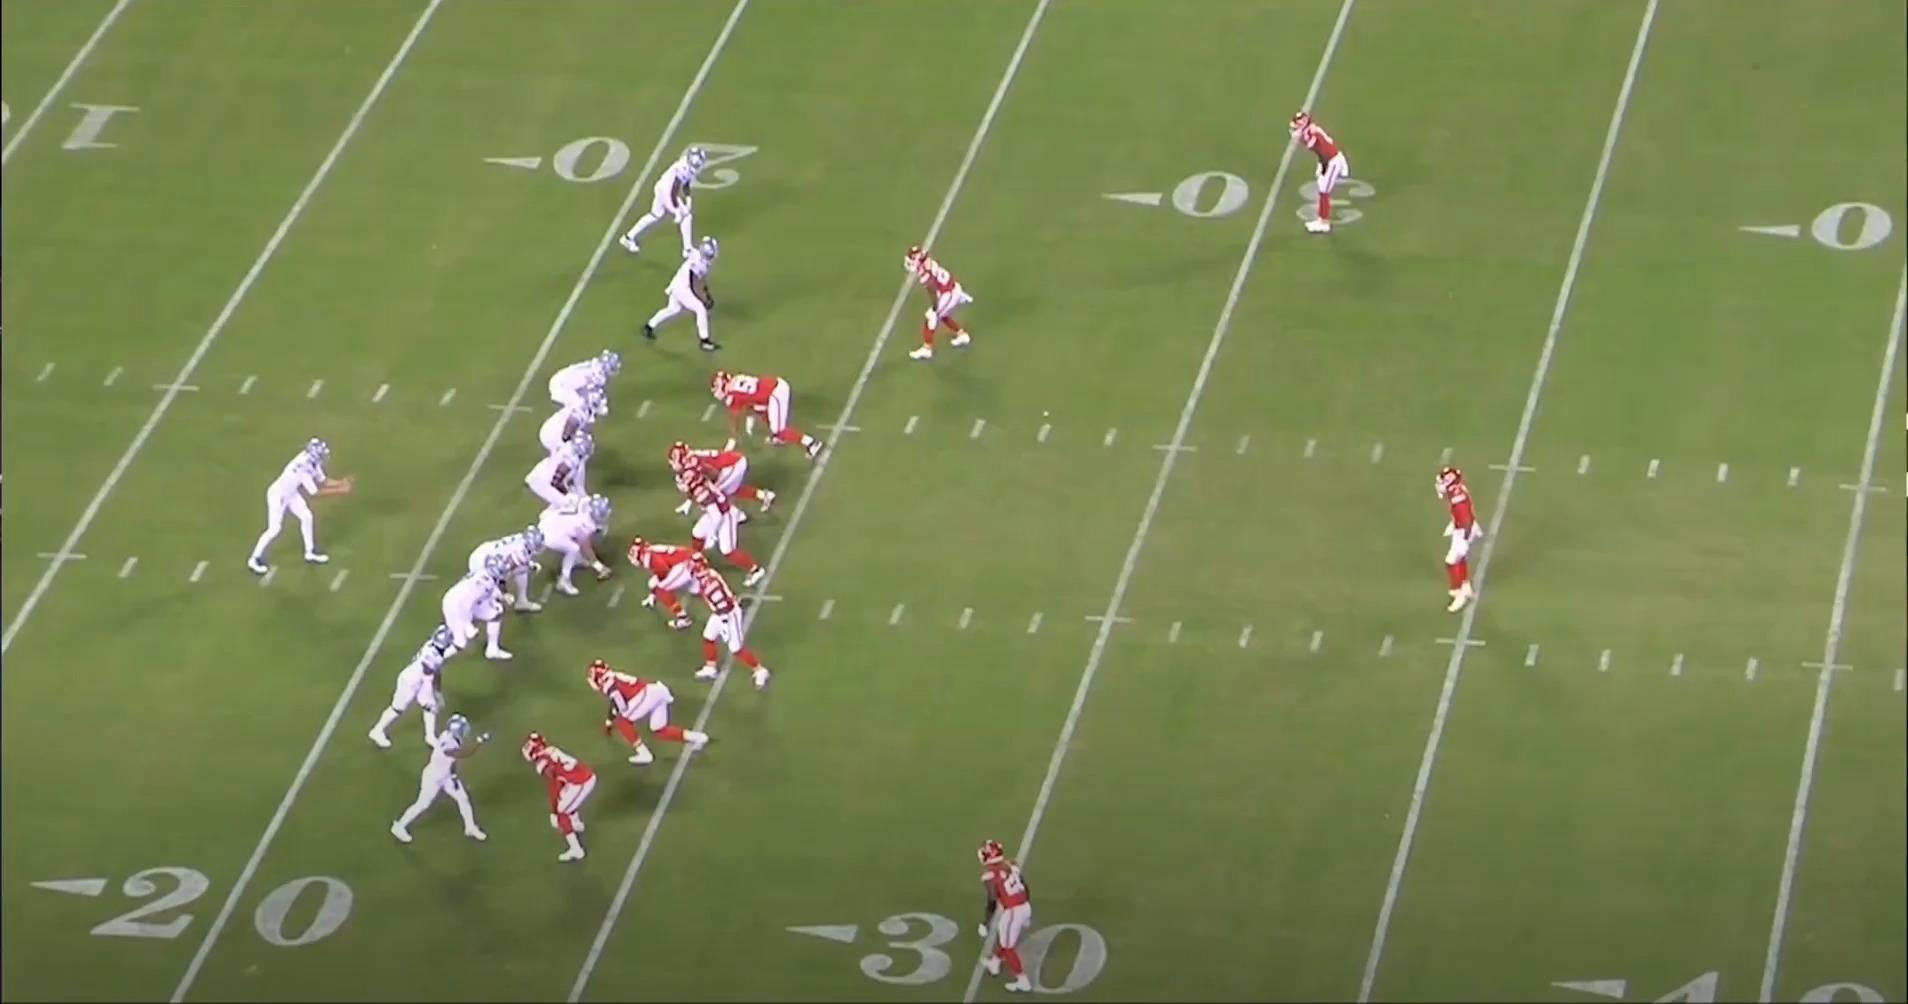player: (255, 428, 362, 578), (388, 709, 491, 851), (591, 659, 716, 766), (366, 621, 464, 756), (615, 139, 715, 261), (690, 557, 779, 690), (683, 463, 776, 589), (516, 732, 596, 872), (706, 370, 826, 461), (974, 837, 1042, 995), (639, 234, 727, 355), (527, 496, 616, 605), (1427, 468, 1488, 625), (431, 558, 516, 668), (1291, 109, 1359, 244), (674, 439, 785, 518), (910, 243, 982, 364), (464, 528, 545, 635), (624, 539, 710, 634), (520, 438, 591, 522), (546, 351, 624, 418), (528, 393, 598, 455)
